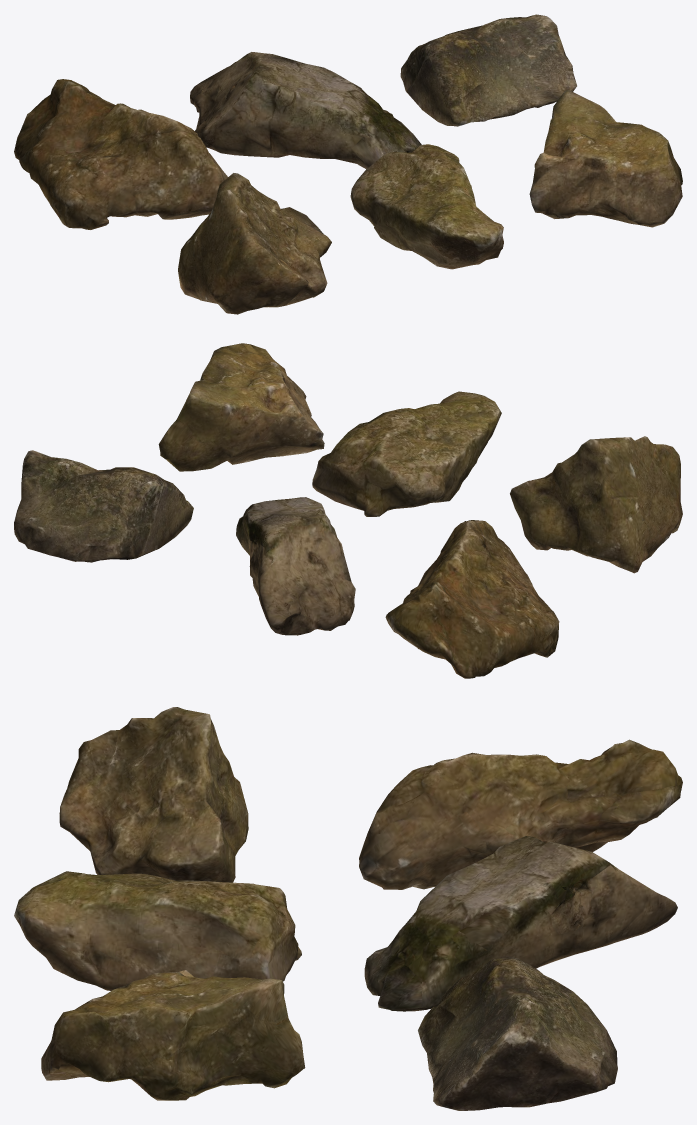
Rendered from rock_moss_set_01.glb.
3 renders of one model, top to bottom at view 1: azimuth 30°, elevation 25°; view 2: azimuth 150°, elevation 25°; view 3: azimuth 270°, elevation 25°, orthographic. The views are drawn at different scales.
Parts seen in each view (by area): view 1: rock_moss_set_01_rock01; view 2: rock_moss_set_01_rock01; view 3: rock_moss_set_01_rock01.
Part boxes in pixels (<box>): rock_moss_set_01_rock01: <box>14,14,682,314</box>; rock_moss_set_01_rock01: <box>14,343,682,678</box>; rock_moss_set_01_rock01: <box>14,707,682,1110</box>.
Bounding box in the file's own units: 8 × 1.76 × 6.94.
1 material, 1 textured.
